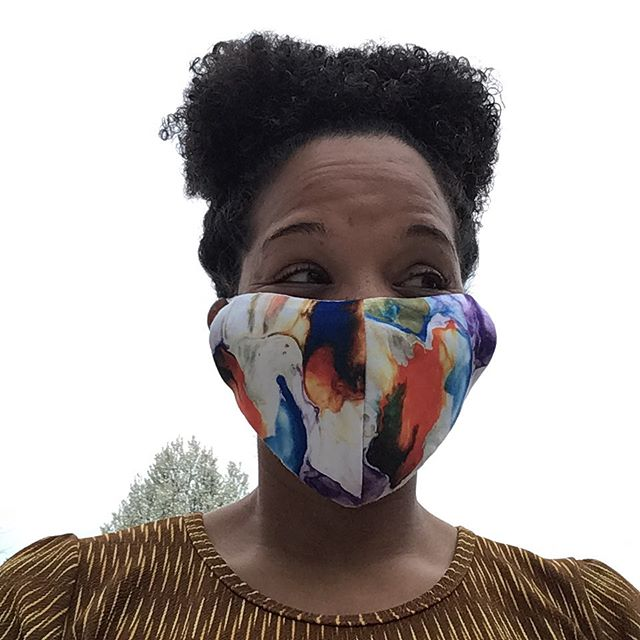homemade: (197, 281, 526, 517)
